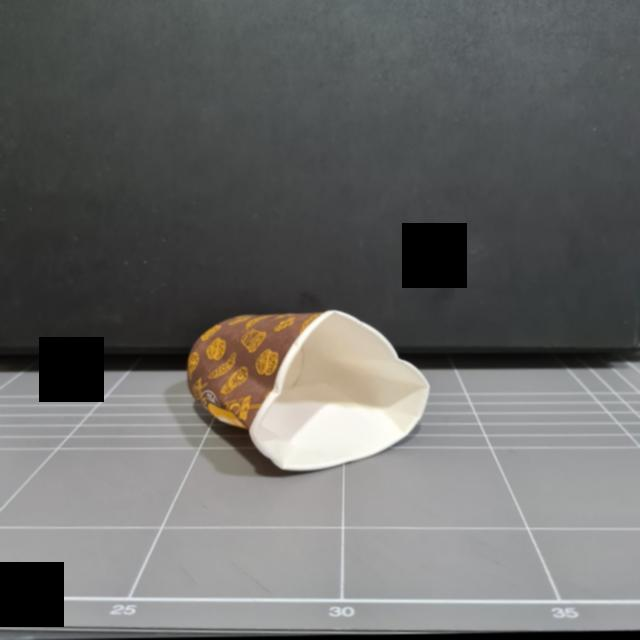cups: (187, 292, 441, 480)
